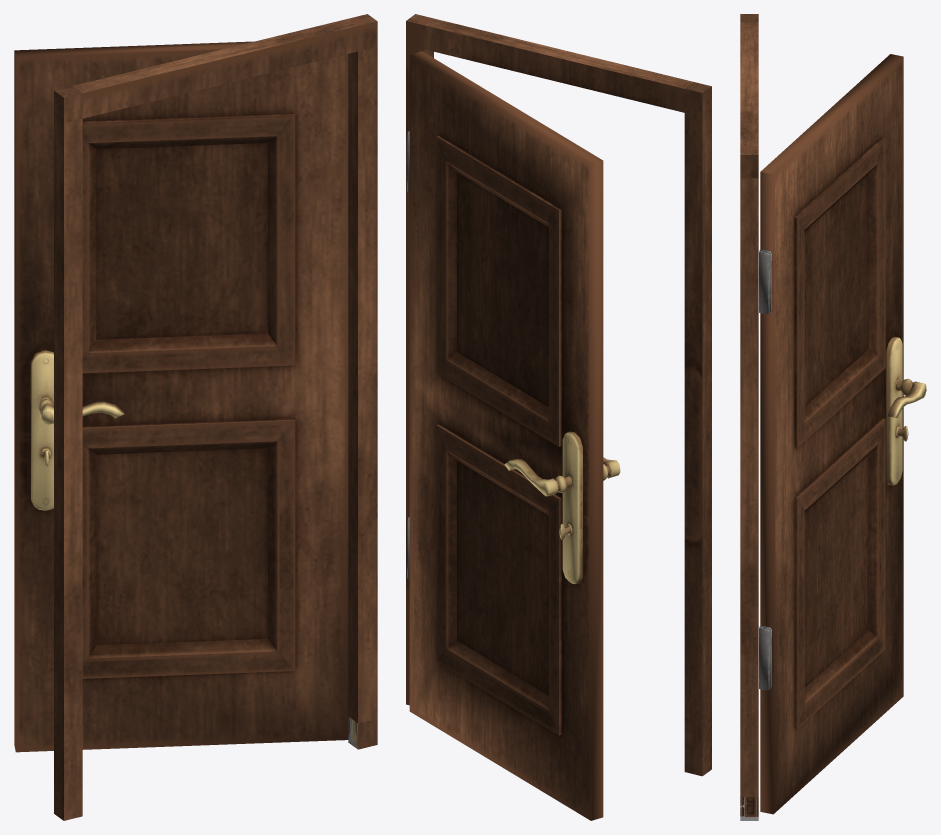
Rendered from Pintu 2.fbx.
3 renders of one model, left to right at view 1: azimuth 30°, elevation 25°; view 2: azimuth 150°, elevation 25°; view 3: azimuth 270°, elevation 25°, orthographic. The views are drawn at different scales.
Parts seen in each view (by area): view 1: 03.Low.001, Cube.285; view 2: 03.Low.001, Cube.285; view 3: 03.Low.001, Cube.285.
Boxes of the visible parts, <box> form: 03.Low.001: <box>14,41,348,752</box>; Cube.285: <box>54,14,377,820</box>; 03.Low.001: <box>407,51,620,820</box>; Cube.285: <box>406,14,711,776</box>; 03.Low.001: <box>759,54,926,814</box>; Cube.285: <box>740,14,758,820</box>.
Size of the model in its own units: 115 by 253 by 64.2.
